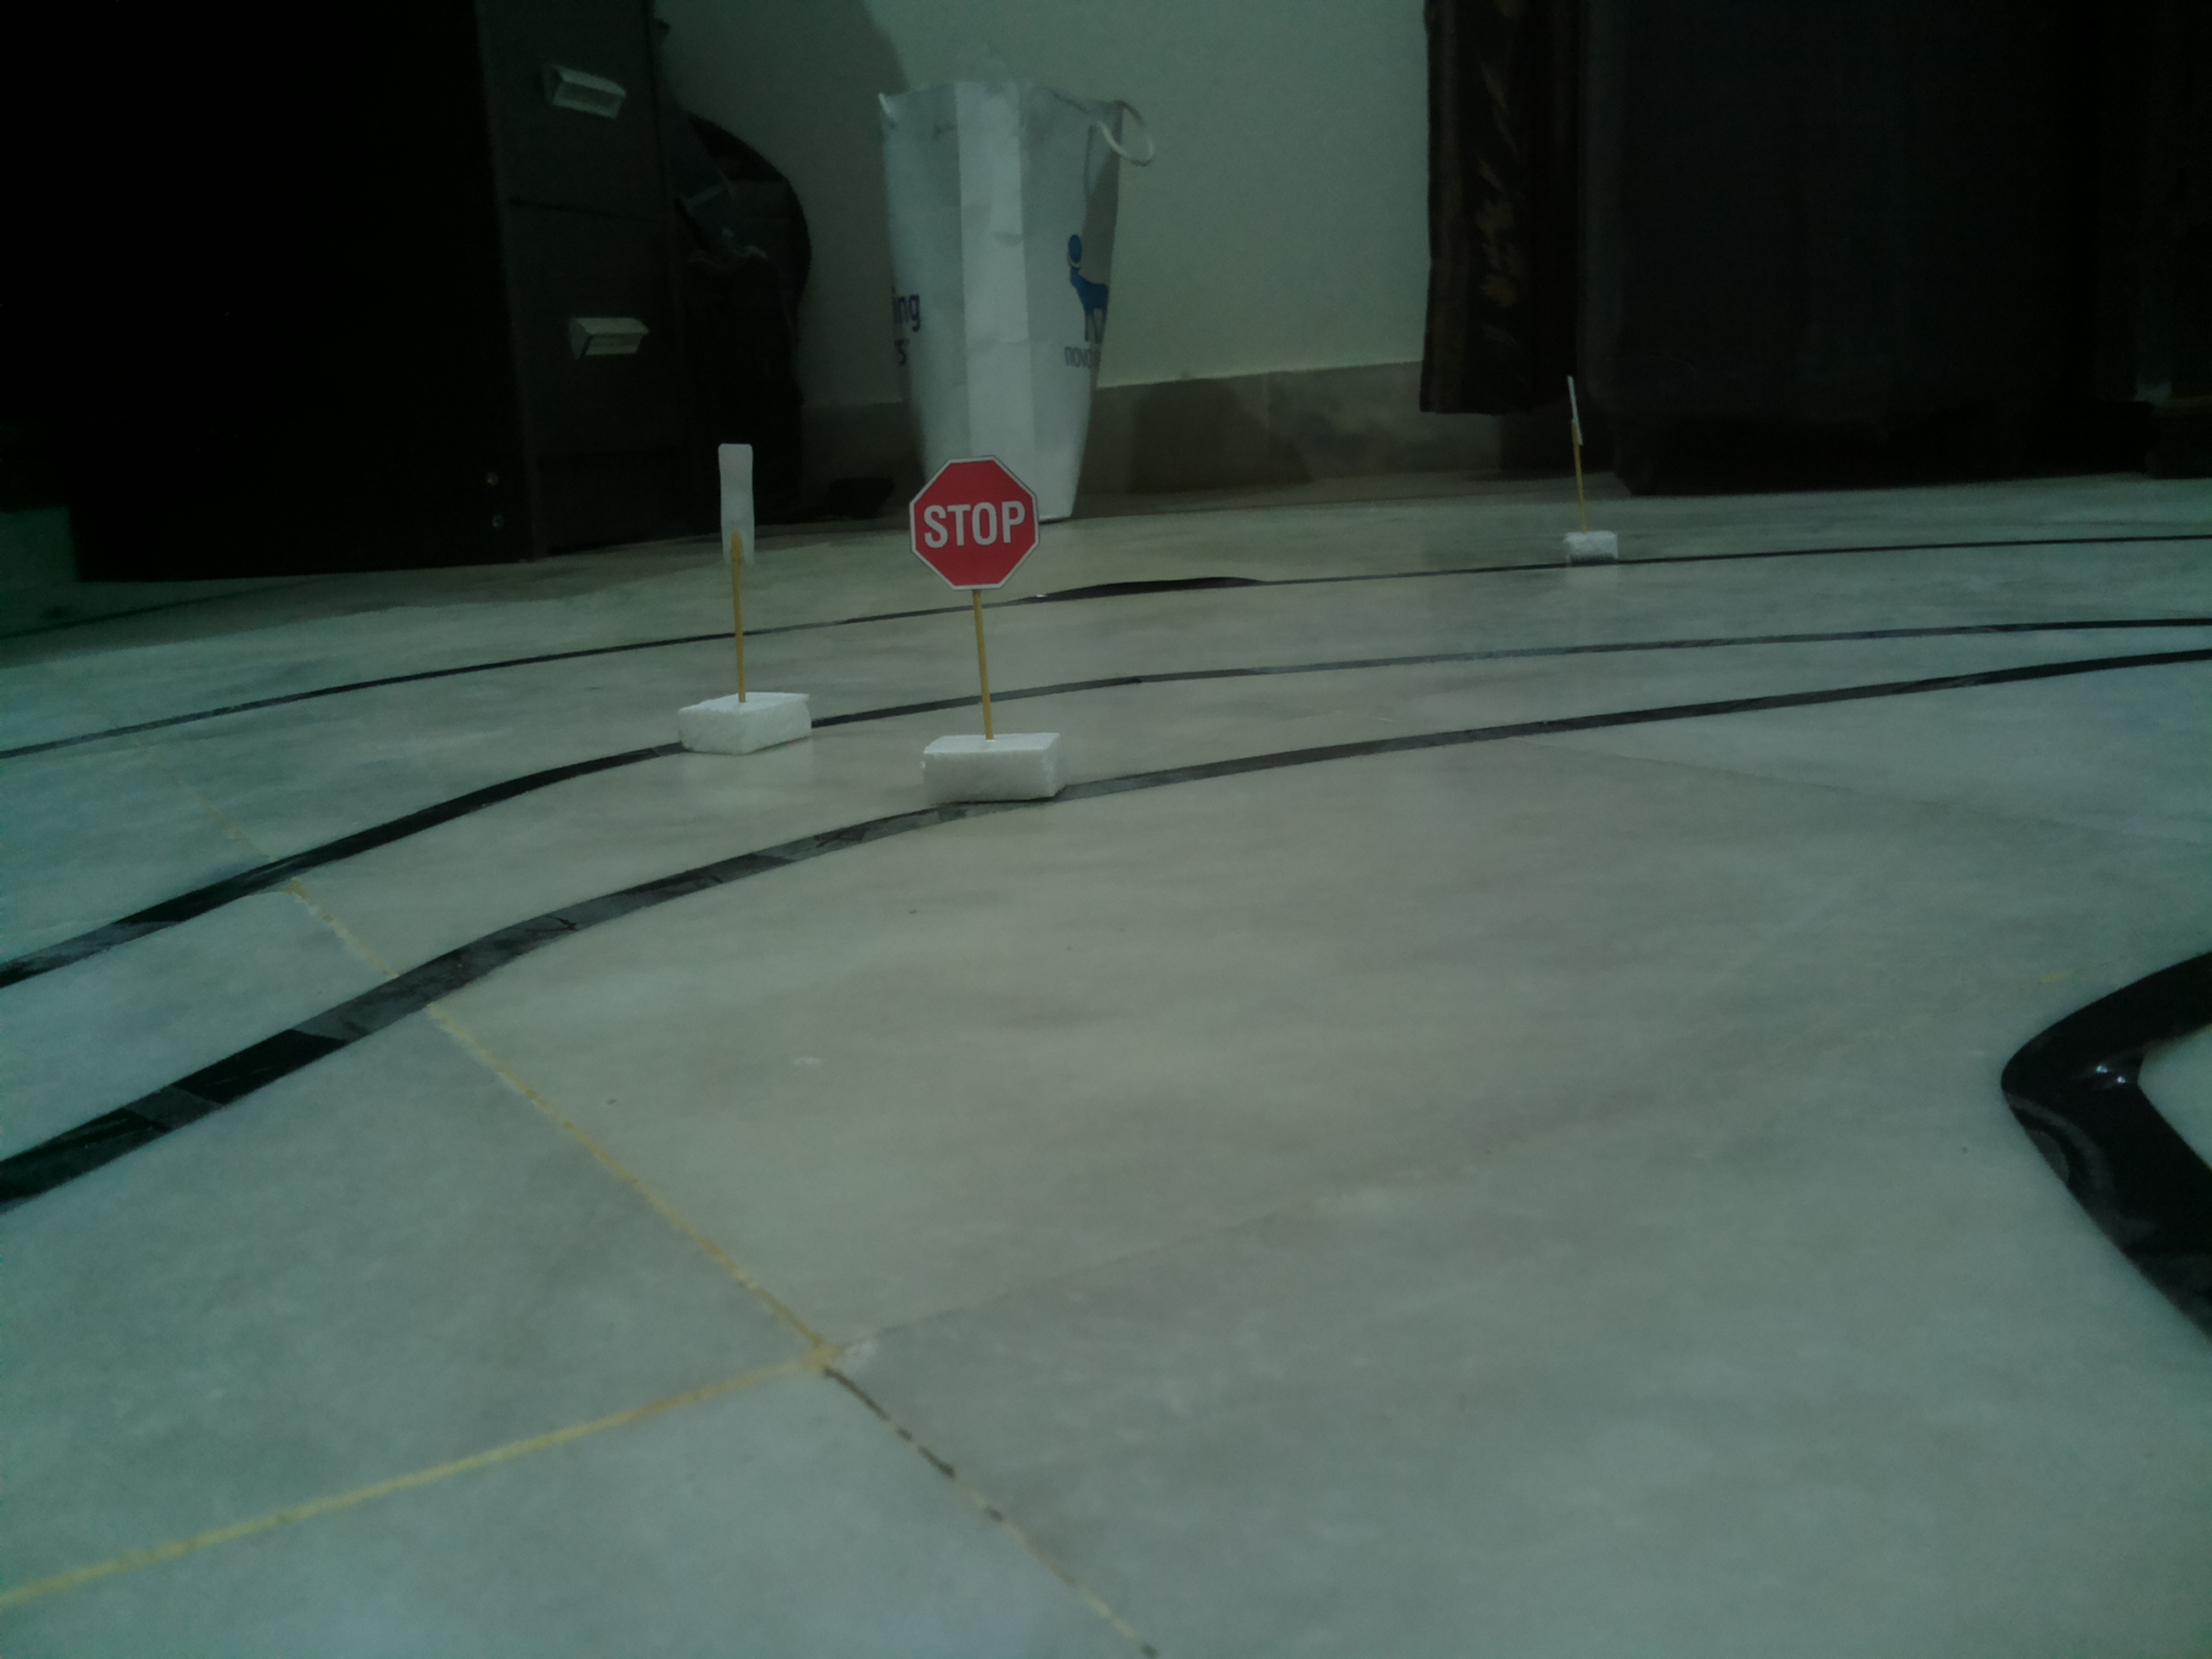Stop sign: (907, 455, 1045, 596)
